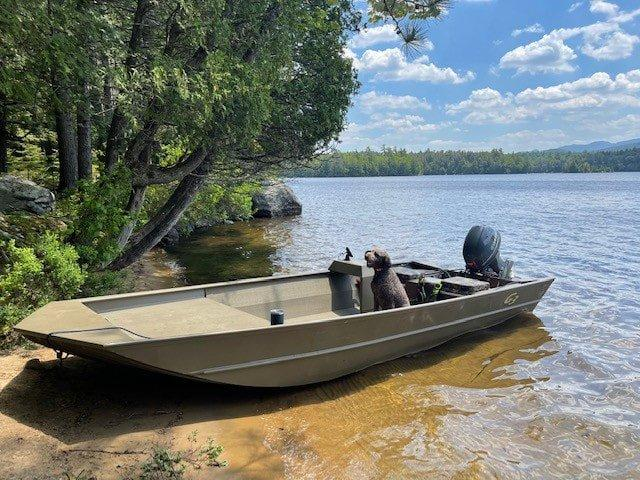fishing boat: (11, 221, 559, 391)
